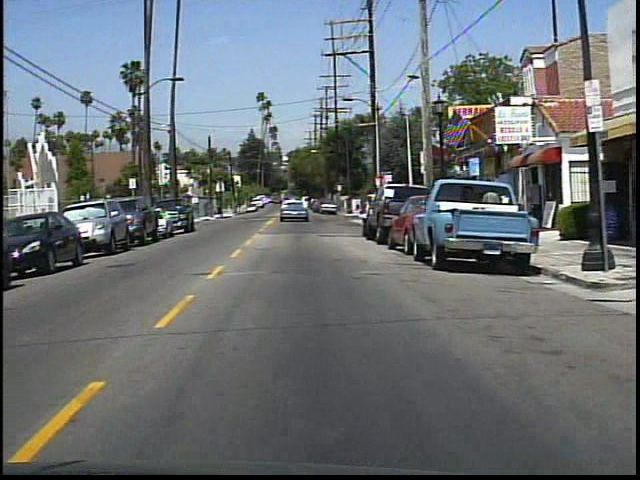person: (482, 183, 506, 234)
